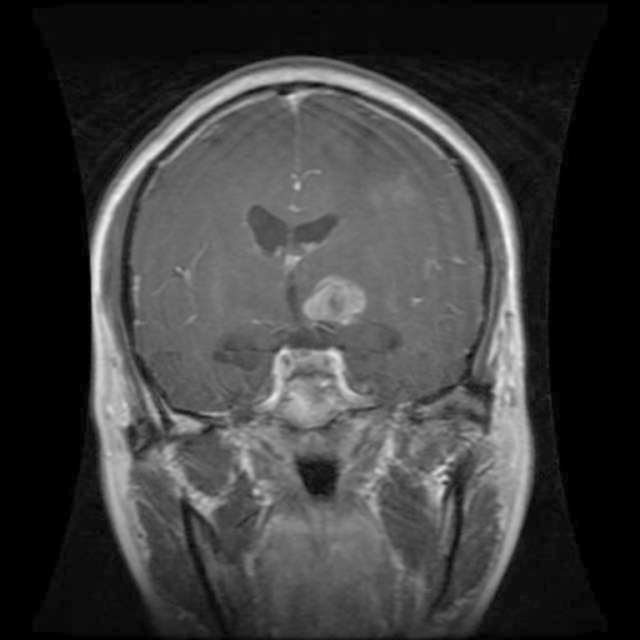pituitary tumor: (294, 276, 372, 325)
